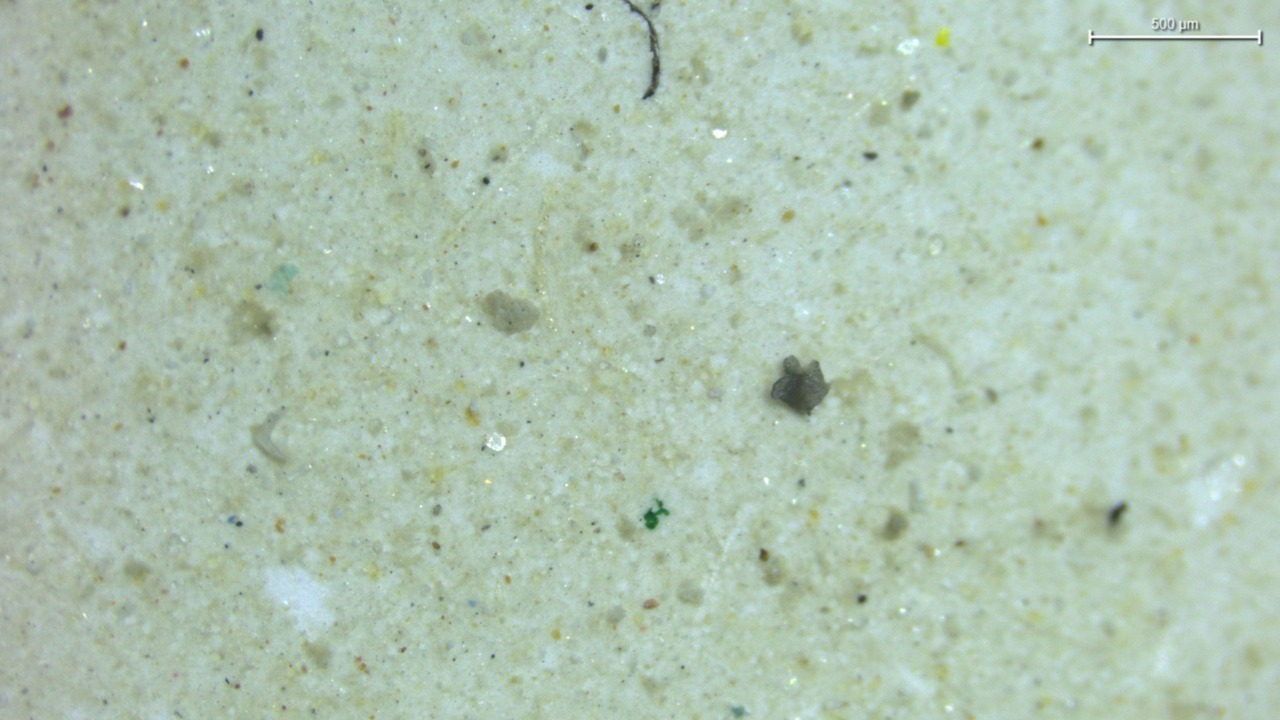microplastic_fragment: (771, 356, 829, 414), (480, 290, 540, 333)
